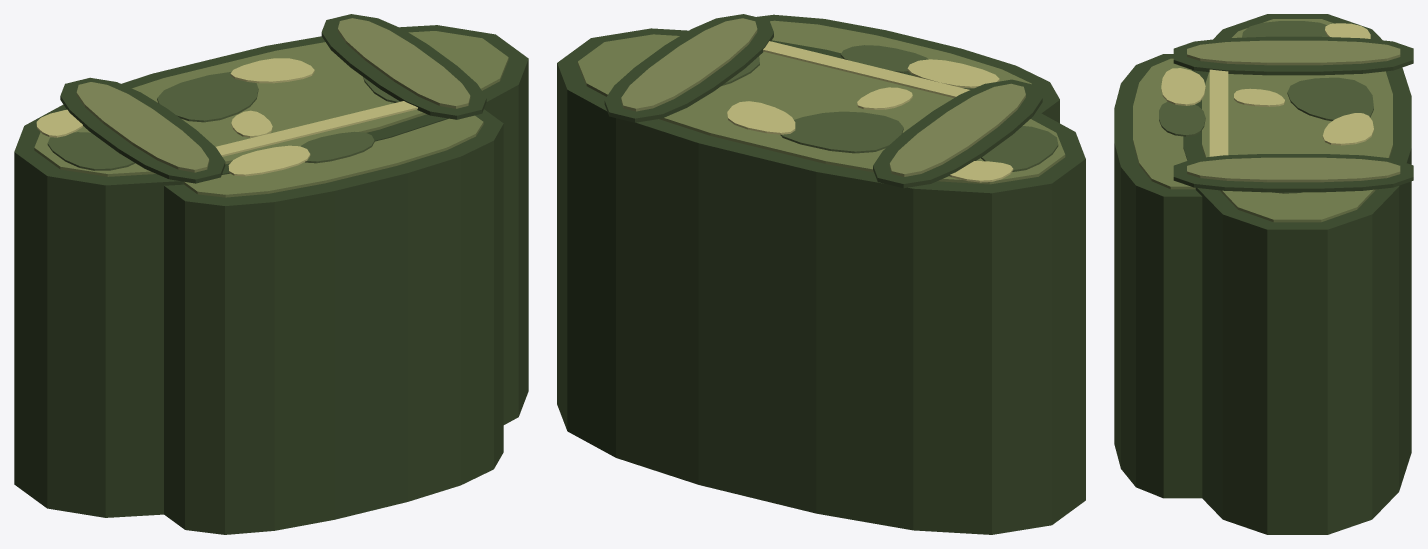
Rendered from bag_camuflada.fbx.
3 views of the same model, side by side, from view 1: azimuth 30°, elevation 25°; view 2: azimuth 150°, elevation 25°; view 3: azimuth 270°, elevation 25° (orthographic). The views are drawn at different scales.
Visible parts, largest first — view 1: bag_camuflada_mochila; view 2: bag_camuflada_mochila; view 3: bag_camuflada_mochila.
Boxes of the visible parts, left/top/right/bottom form: bag_camuflada_mochila: left=14, top=14, right=528, bottom=534; bag_camuflada_mochila: left=557, top=14, right=1085, bottom=534; bag_camuflada_mochila: left=1114, top=14, right=1413, bottom=534.
Bounding box in the file's own units: 2.73 × 1.87 × 1.6.
Materials: 1 (1 with a texture image).
